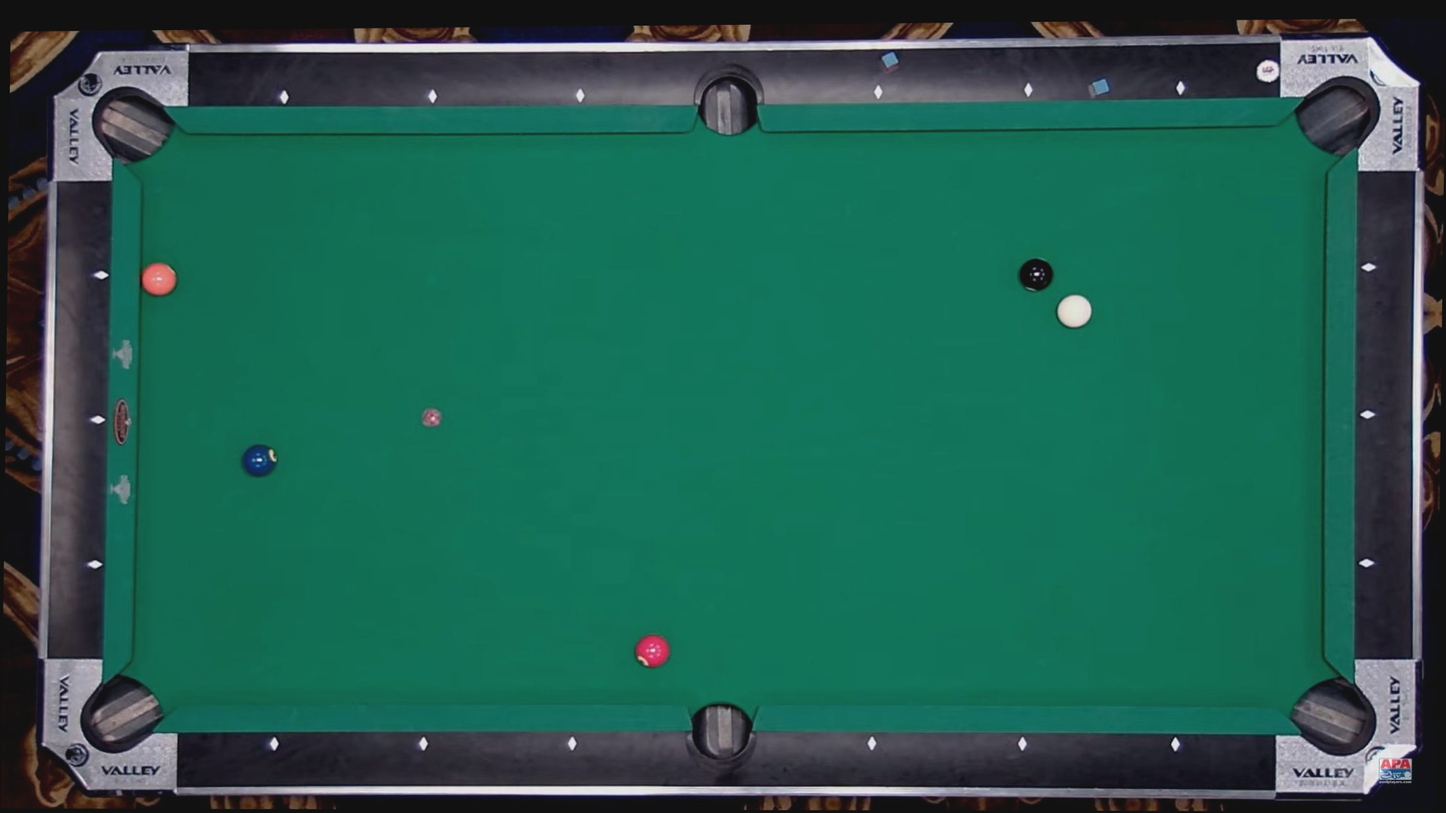Black: (280, 93, 291, 104), (873, 86, 884, 97), (1022, 85, 1033, 96), (1361, 558, 1372, 569), (1171, 739, 1182, 750), (1016, 739, 1027, 750), (564, 737, 575, 748), (417, 739, 428, 750), (88, 559, 99, 569), (97, 268, 107, 279), (426, 92, 437, 102), (576, 90, 586, 101), (1174, 83, 1185, 93), (1361, 410, 1372, 420), (867, 739, 877, 750), (268, 739, 279, 749), (92, 415, 102, 425), (1365, 264, 1375, 274)
Cue: (242, 443, 278, 477), (142, 262, 178, 296), (636, 634, 670, 667)
Solid: (1018, 258, 1053, 292)
Stripe: (1057, 294, 1092, 329)
